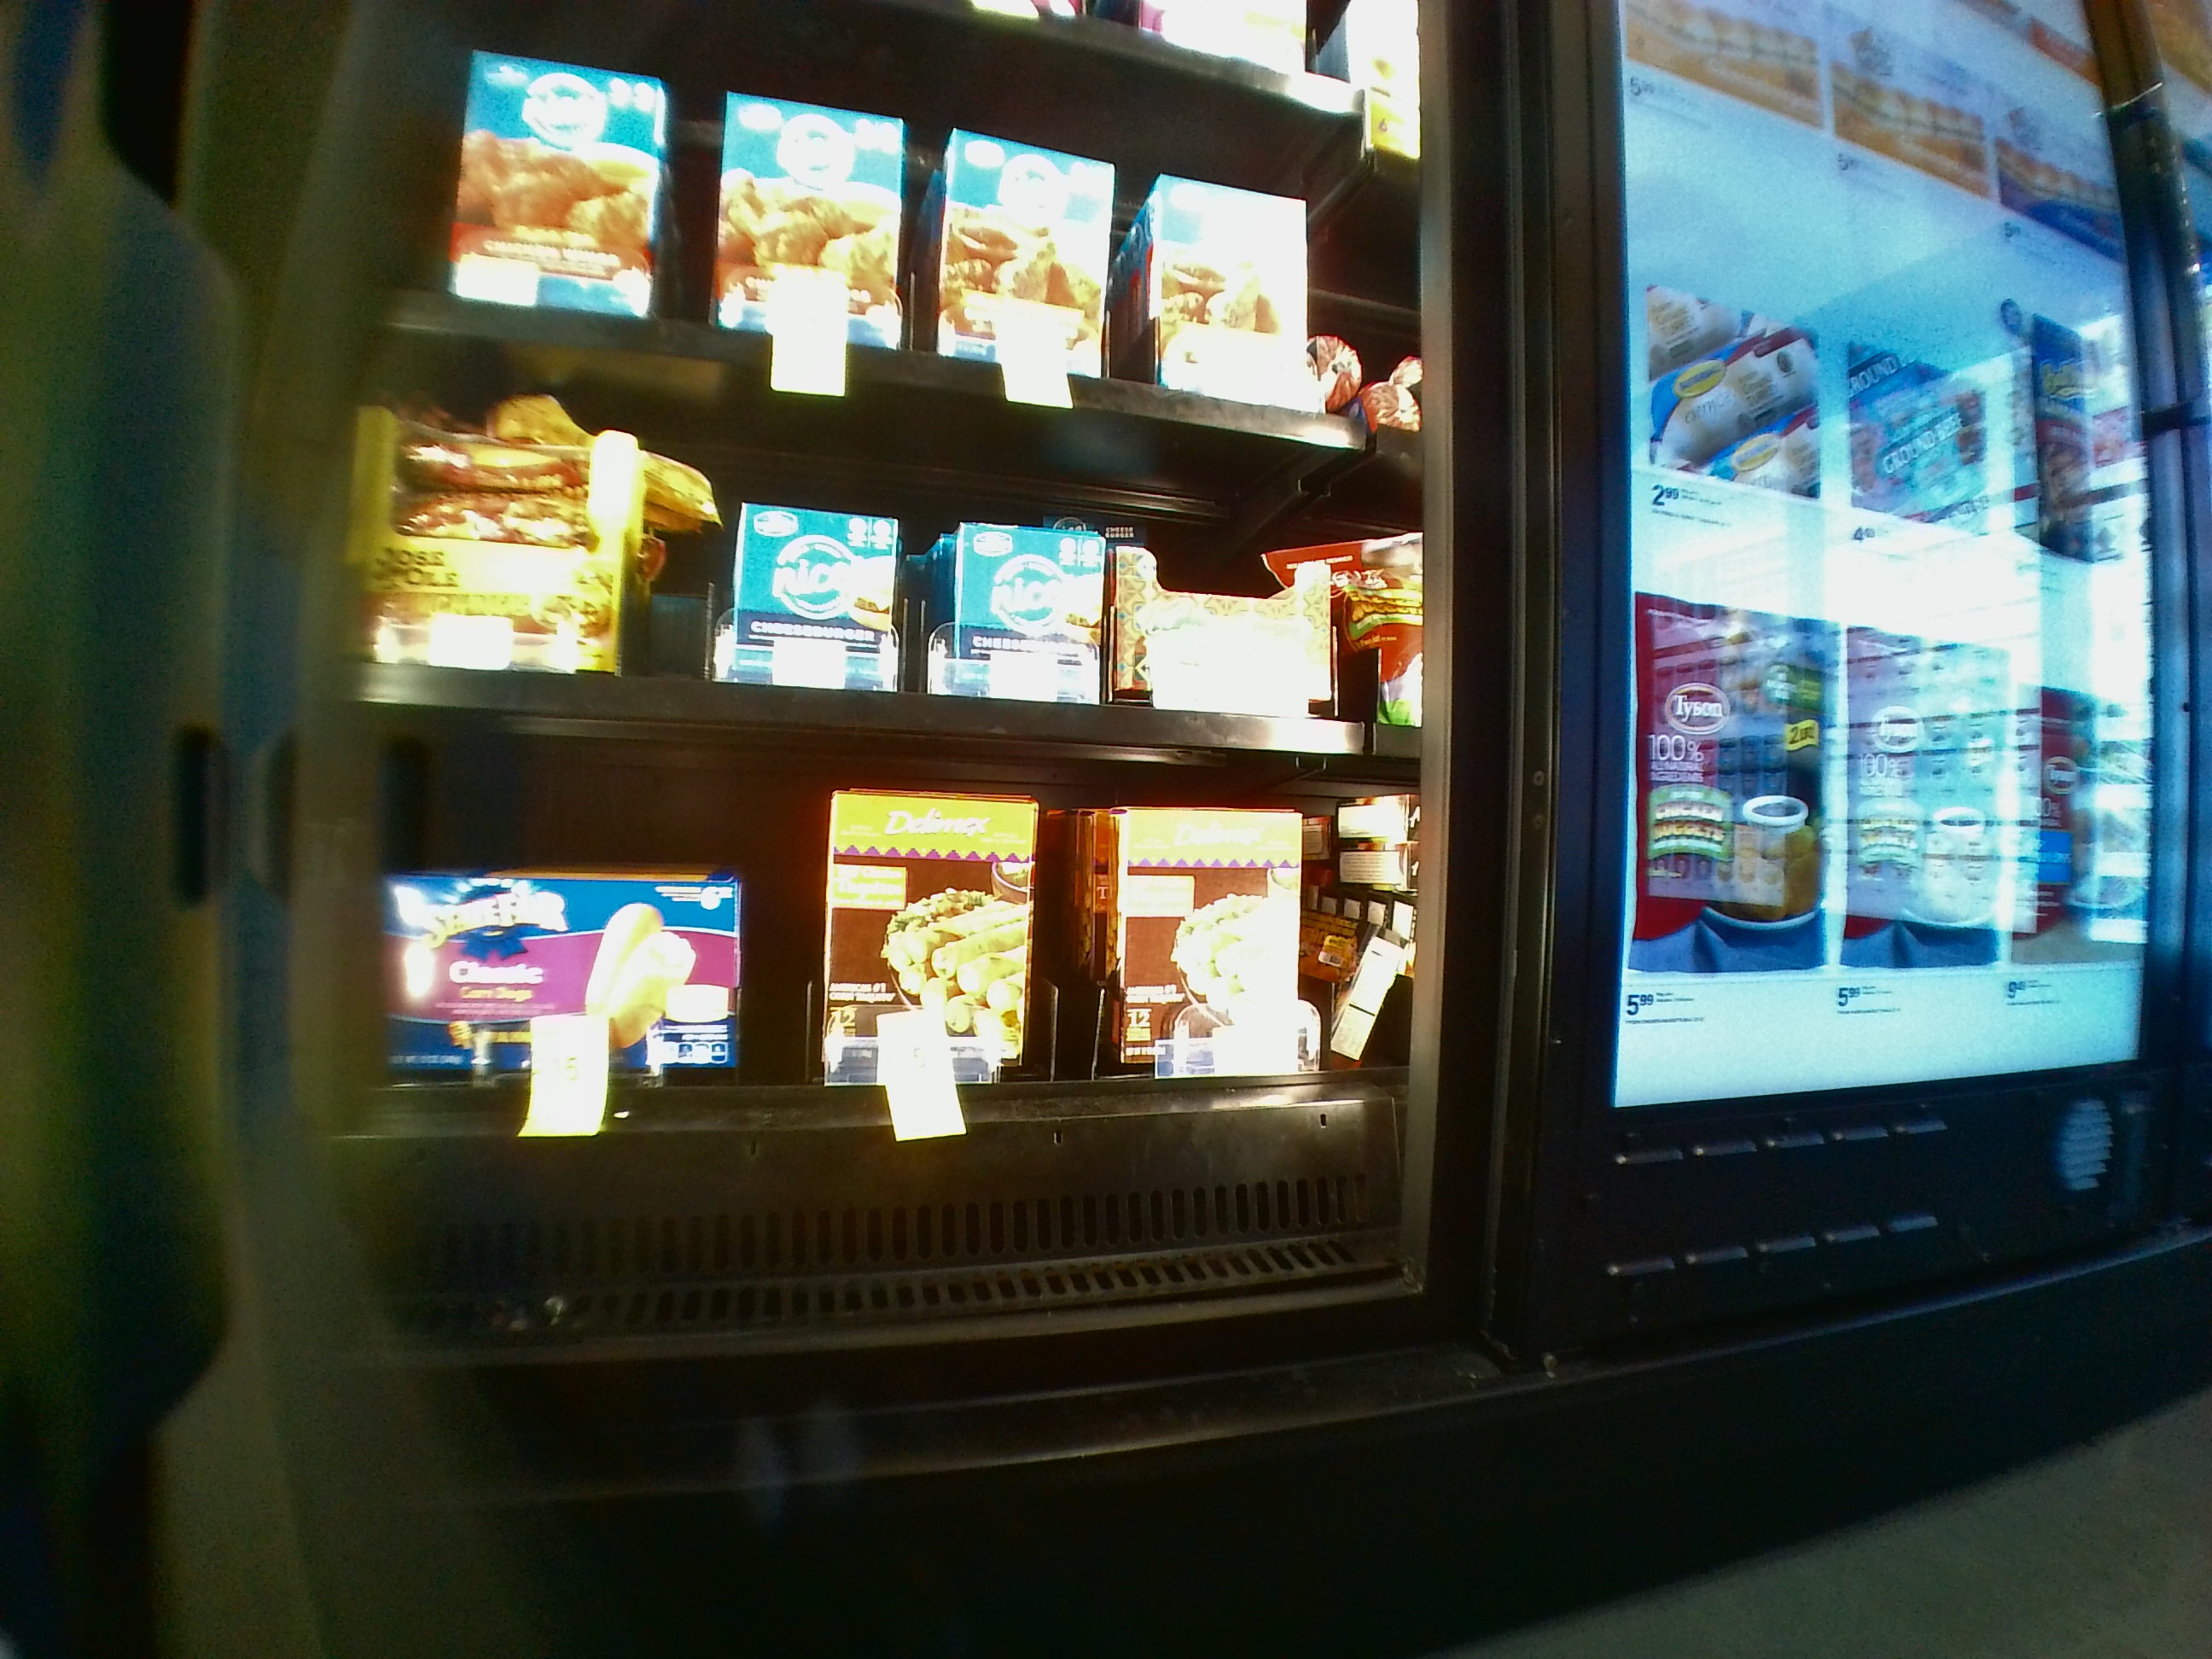shelf: (352, 779, 1404, 1270), (347, 331, 1411, 763)
